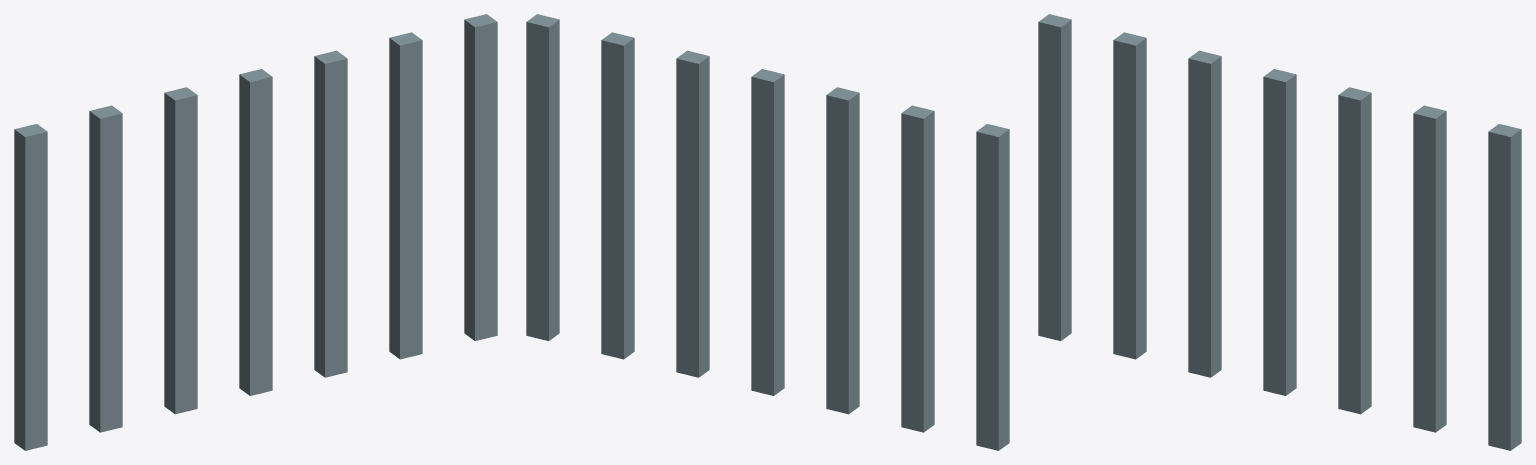
The model's file is Utility_Transformer_CoolingFins.glb.
The picture shows the model from 3 angles, left to right: view 1: azimuth 30°, elevation 25°; view 2: azimuth 150°, elevation 25°; view 3: azimuth 330°, elevation 25°; orthographic projection.
Visible parts, largest first — view 1: Utility_Transformer_CoolingFins; view 2: Utility_Transformer_CoolingFins; view 3: Utility_Transformer_CoolingFins.
Boxes of the visible parts, bbox=[...] form: Utility_Transformer_CoolingFins: bbox=[14, 14, 497, 450]; Utility_Transformer_CoolingFins: bbox=[526, 14, 1009, 450]; Utility_Transformer_CoolingFins: bbox=[1038, 14, 1521, 450].
Size of the model in its own units: 1.26 by 0.8 by 0.05.
